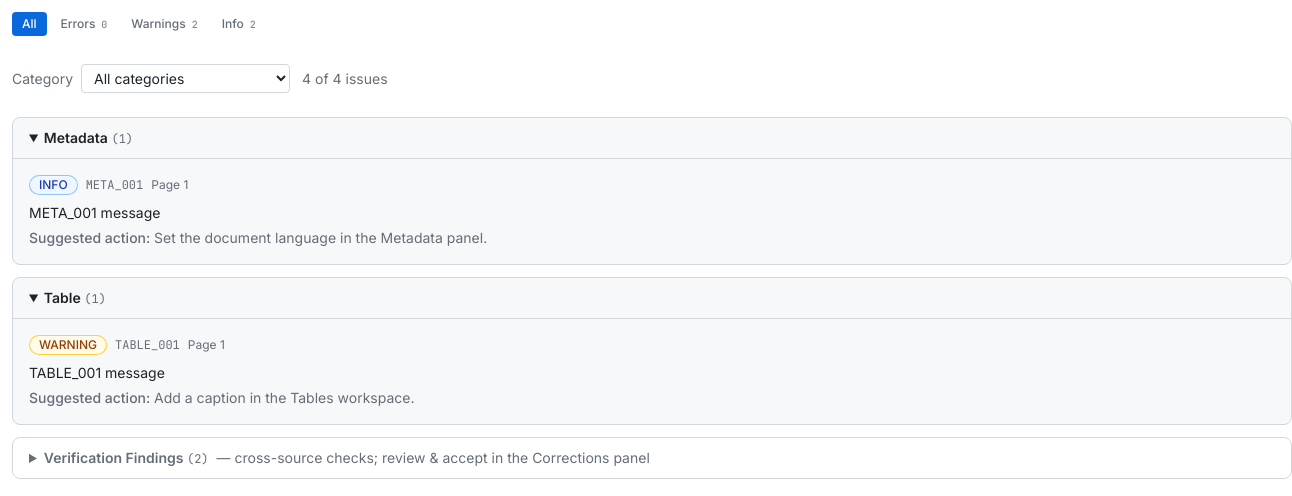
Scenario: ValidationIssueTable — actionable vs verification partition › keeps severity filtering working across the partition
Click the tab "Info2": (239, 24) [212,12,266,36]
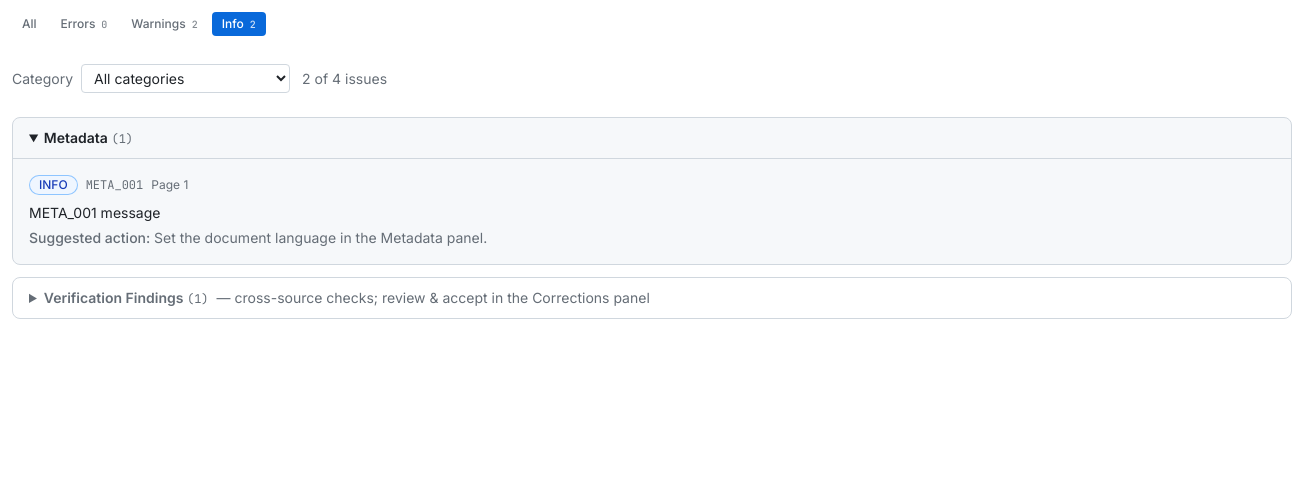
Expected: the text "META_001" is shown, [86,177,143,193]
Expected: the text "TABLE_001" is gone
